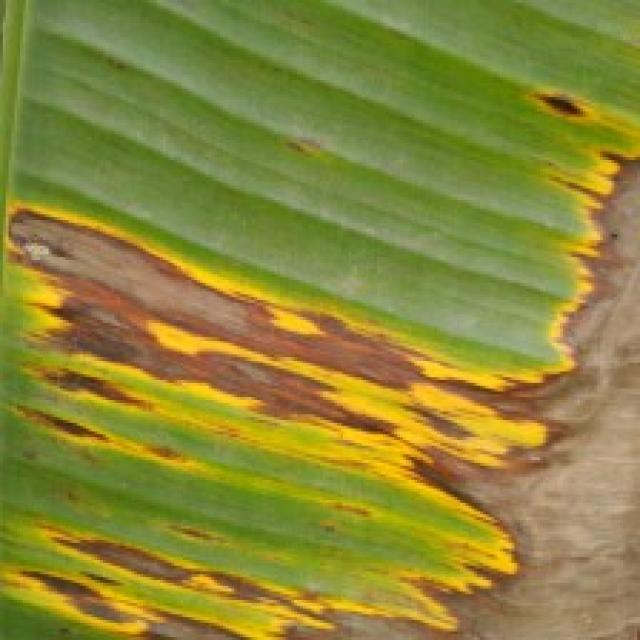Early_leaf_spot: (0, 185, 593, 513), (0, 480, 475, 640), (497, 69, 640, 396), (268, 120, 348, 174)
